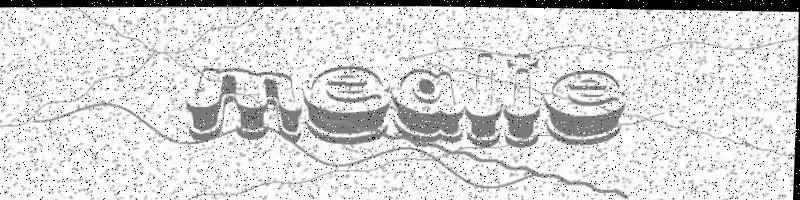a: (389, 62, 473, 154)
e: (538, 61, 632, 154), (299, 56, 395, 147)
i: (503, 39, 548, 149)
l: (463, 45, 507, 150)
m: (174, 56, 307, 152)
